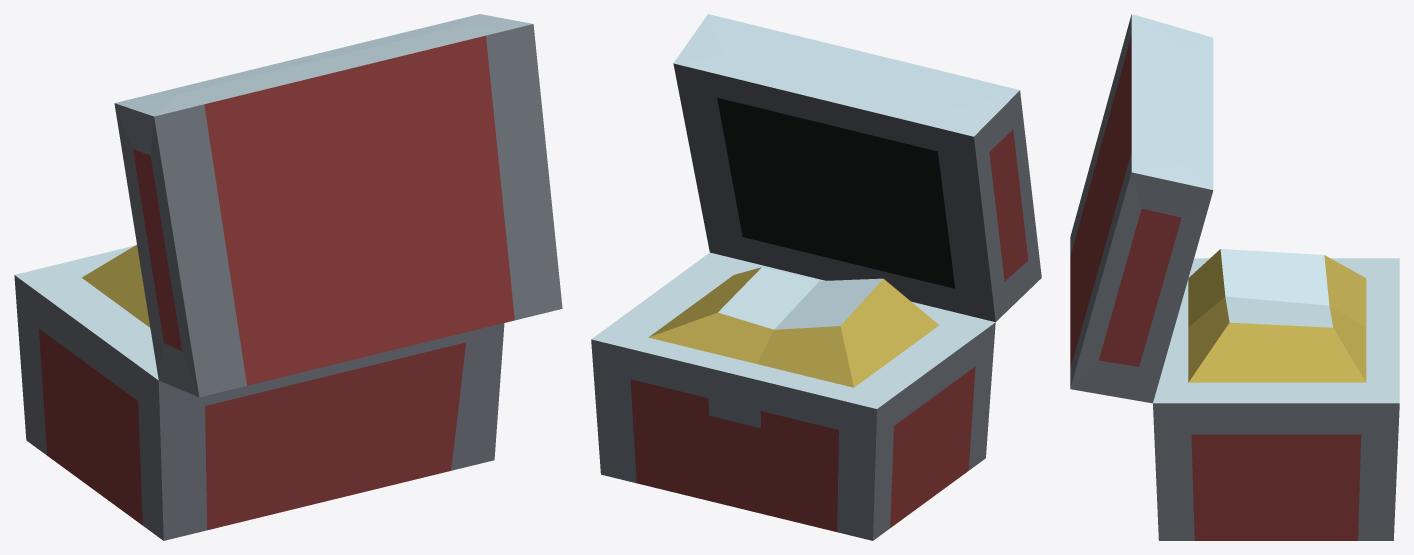
The model's file is SM_Prop_TreasureChest_Open_02_Snow.fbx.
The picture shows the model from 3 angles, left to right: view 1: azimuth 30°, elevation 25°; view 2: azimuth 150°, elevation 25°; view 3: azimuth 270°, elevation 25°; orthographic projection. The views are drawn at different scales.
Parts seen in each view (by area): view 1: SM_Prop_TreasureChest_Open_02_Snow; view 2: SM_Prop_TreasureChest_Open_02_Snow; view 3: SM_Prop_TreasureChest_Open_02_Snow.
Boxes of the visible parts, x1,y1,x2,y2 form: SM_Prop_TreasureChest_Open_02_Snow: (14,14,562,540); SM_Prop_TreasureChest_Open_02_Snow: (591,14,1041,540); SM_Prop_TreasureChest_Open_02_Snow: (1070,14,1399,540).
Bounding box in the file's own units: 68.01 × 75.75 × 59.82.
1 material, 1 textured.
